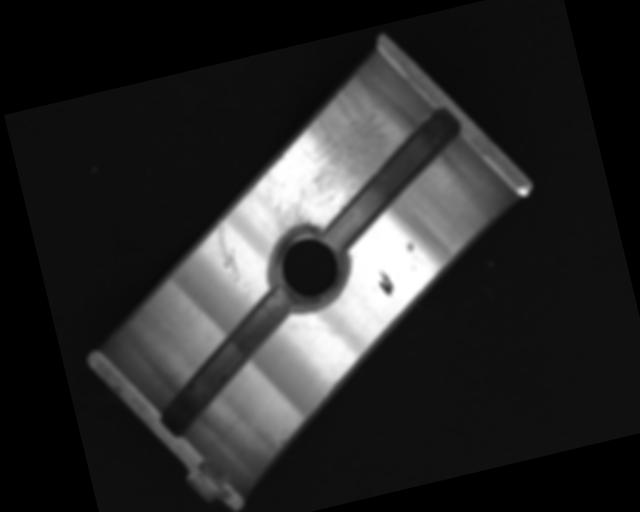blot: (375, 268, 395, 300)
bruise: (403, 238, 416, 254)
gap: (138, 285, 316, 437), (307, 107, 481, 248)
hole: (261, 219, 356, 314)
nick: (210, 217, 244, 285)
scratch: (240, 68, 407, 240)
